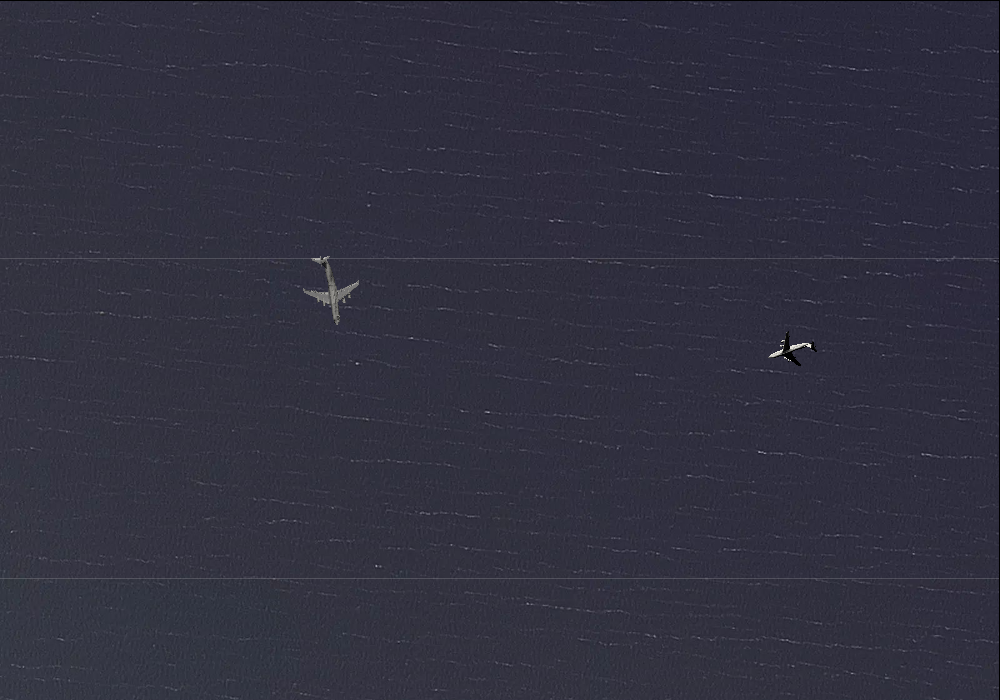plane: (291, 250, 367, 330), (761, 322, 823, 380)
